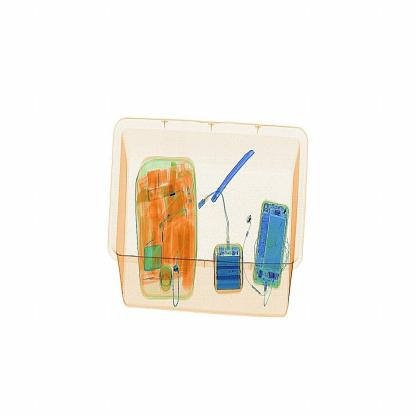pliers: (210, 138, 267, 206)
